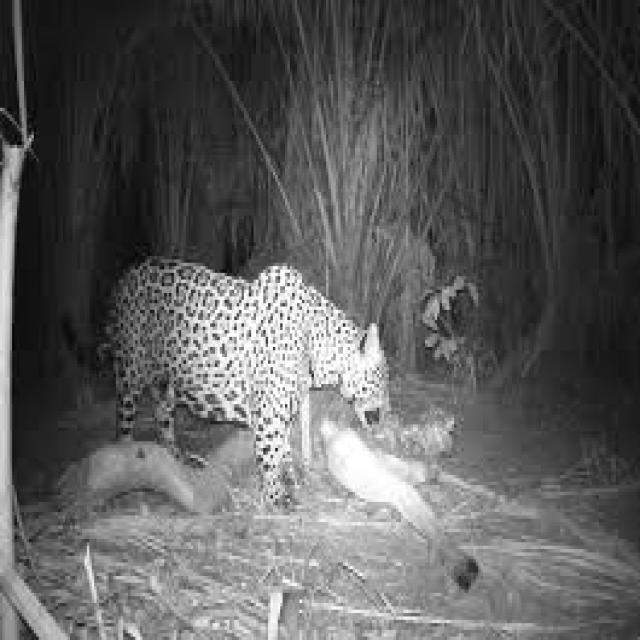Jaguar: (111, 253, 408, 492)
